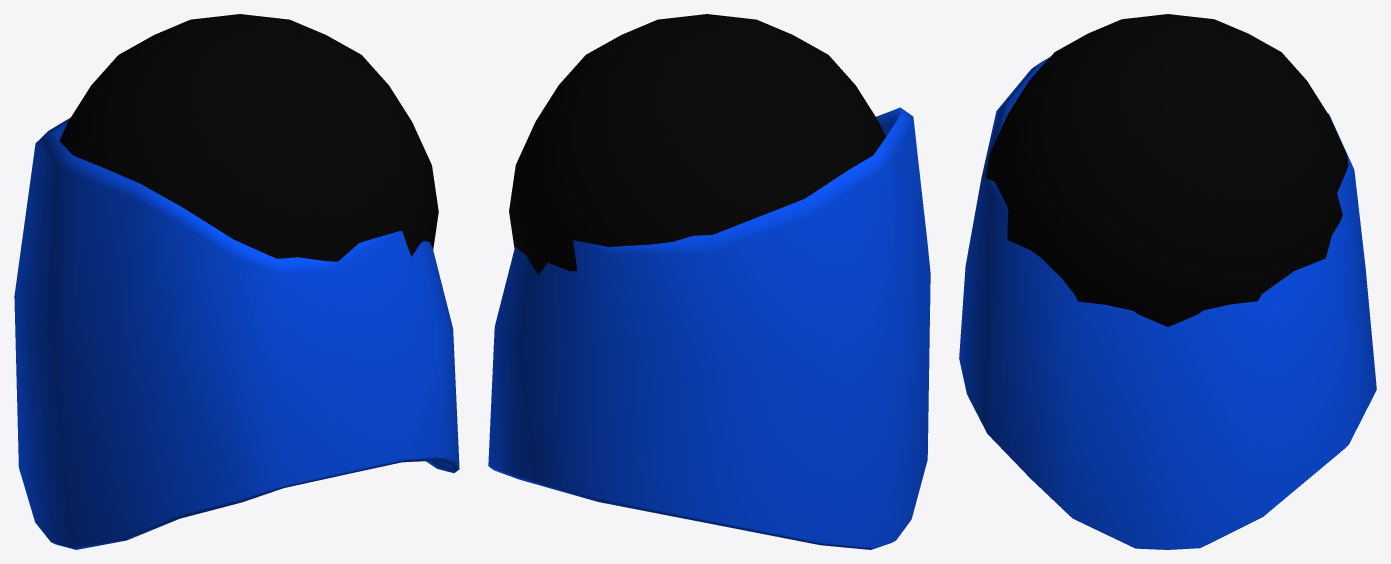
Rendered from Left_upLeg-1.obj.
The picture shows the model from 3 angles, left to right: view 1: azimuth 30°, elevation 25°; view 2: azimuth 150°, elevation 25°; view 3: azimuth 270°, elevation 25°; orthographic projection. The views are drawn at different scales.
Parts seen in each view (by area): view 1: polySurface244; view 2: polySurface244; view 3: polySurface244.
Boxes of the visible parts, x1,y1,x2,y2 form: polySurface244: (14, 14, 459, 549); polySurface244: (488, 14, 930, 549); polySurface244: (959, 14, 1376, 549).
Size of the model in its own units: 2.18 by 2.58 by 2.24.
